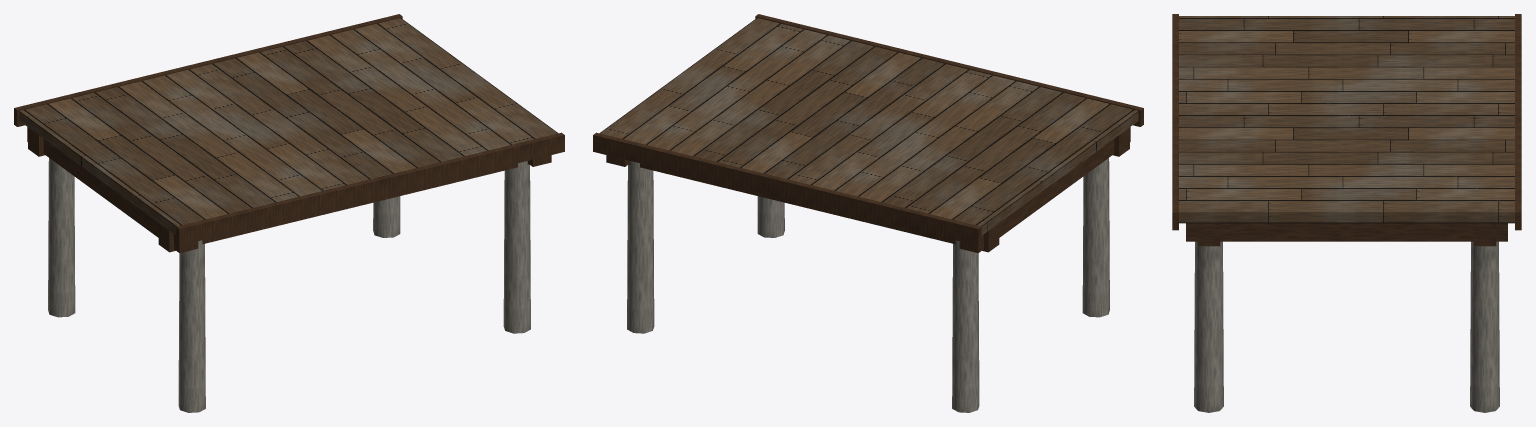
Rendered from SM_Art_Pier_405x300x100_P200.gltf.
3 views of the same model, side by side, from view 1: azimuth 30°, elevation 25°; view 2: azimuth 150°, elevation 25°; view 3: azimuth 270°, elevation 25° (orthographic). The views are drawn at different scales.
Parts seen in each view (by area): view 1: SM_Art_Pier_405x300x100_P200; view 2: SM_Art_Pier_405x300x100_P200; view 3: SM_Art_Pier_405x300x100_P200.
Part boxes in pixels (<box>): SM_Art_Pier_405x300x100_P200: <box>14,14,564,412</box>; SM_Art_Pier_405x300x100_P200: <box>593,14,1143,412</box>; SM_Art_Pier_405x300x100_P200: <box>1172,14,1521,412</box>.
Size of the model in its own units: 4.09 by 2.01 by 3.04.
3 materials, 3 textured.
